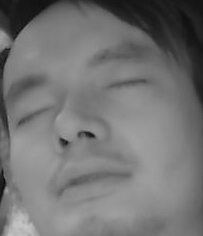blink: (107, 74, 148, 95), (18, 102, 52, 127)
mouth: (46, 156, 131, 206)
